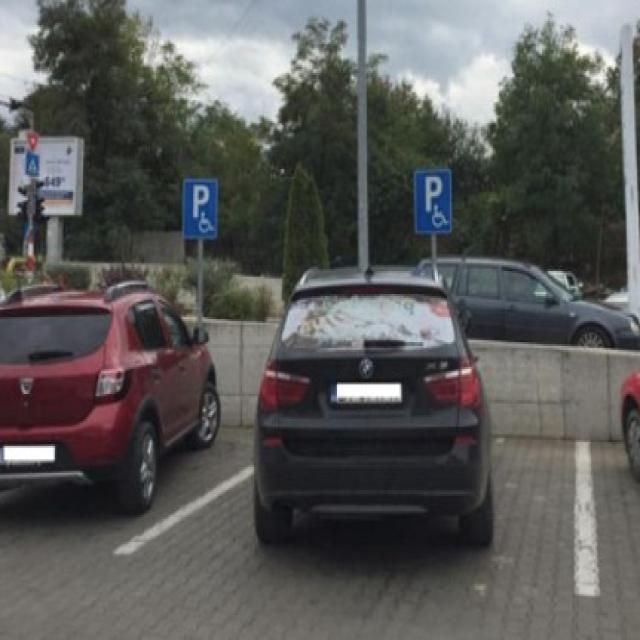symbol_of_access: (427, 197, 452, 232), (196, 209, 218, 239)
